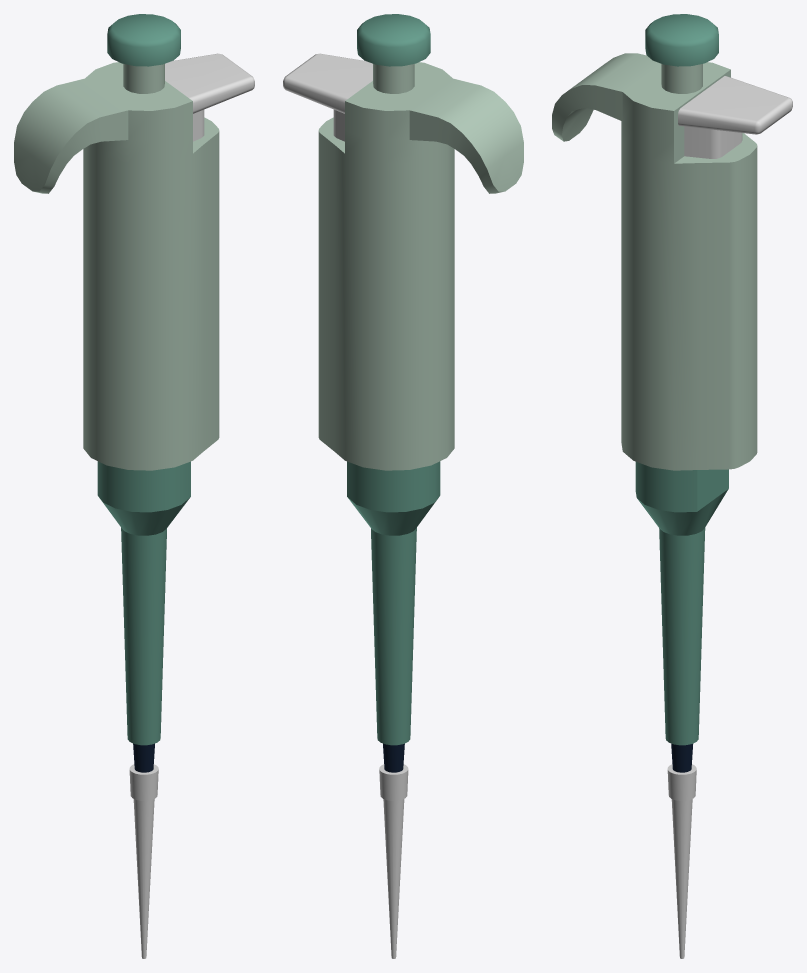
The model's file is pipette.fbx.
The picture shows the model from 3 angles, left to right: view 1: azimuth 30°, elevation 25°; view 2: azimuth 150°, elevation 25°; view 3: azimuth 330°, elevation 25°; orthographic projection.
Visible parts, largest first — view 1: pipette, pipette_tip; view 2: pipette, pipette_tip; view 3: pipette, pipette_tip.
Part boxes in pixels (bbox=[...]): pipette: bbox=[14, 14, 254, 772]; pipette_tip: bbox=[129, 764, 158, 958]; pipette: bbox=[283, 14, 523, 772]; pipette_tip: bbox=[379, 764, 408, 958]; pipette: bbox=[552, 14, 792, 772]; pipette_tip: bbox=[667, 764, 696, 958].
Bounding box in the file's own units: 0.0597 × 0.2505 × 0.03.
